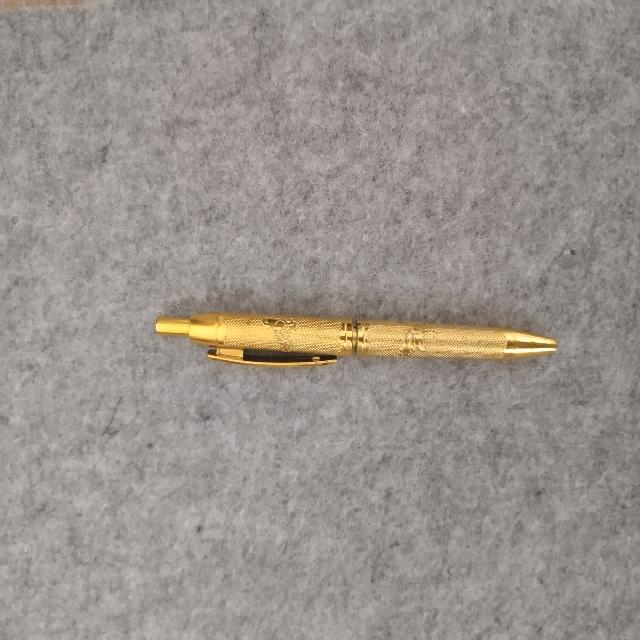signature pen: (156, 313, 555, 365)
